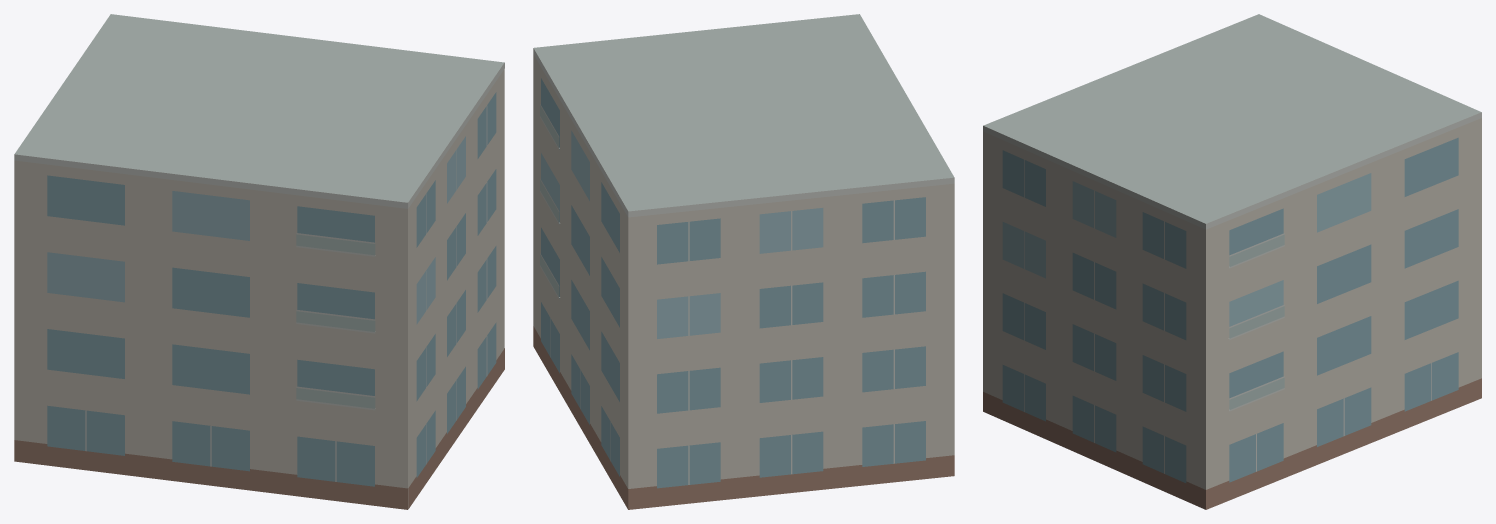
File: residential-bb6dcd89-9c64-4124-98a6-a9a8f5d9729b.glb
The picture shows the model from 3 angles, left to right: view 1: azimuth 30°, elevation 25°; view 2: azimuth 150°, elevation 25°; view 3: azimuth 270°, elevation 25°; orthographic projection. The views are drawn at different scales.
Visible parts, largest first — view 1: residential-bb6dcd89-9c64-4124-98a6-a9a8f5d9729b.tmp; view 2: residential-bb6dcd89-9c64-4124-98a6-a9a8f5d9729b.tmp; view 3: residential-bb6dcd89-9c64-4124-98a6-a9a8f5d9729b.tmp.
Boxes of the visible parts, bbox=[...] form: residential-bb6dcd89-9c64-4124-98a6-a9a8f5d9729b.tmp: bbox=[14, 14, 504, 509]; residential-bb6dcd89-9c64-4124-98a6-a9a8f5d9729b.tmp: bbox=[533, 14, 954, 509]; residential-bb6dcd89-9c64-4124-98a6-a9a8f5d9729b.tmp: bbox=[983, 14, 1481, 509].
Bounding box in the file's own units: 19.21 × 12.2 × 19.29.
